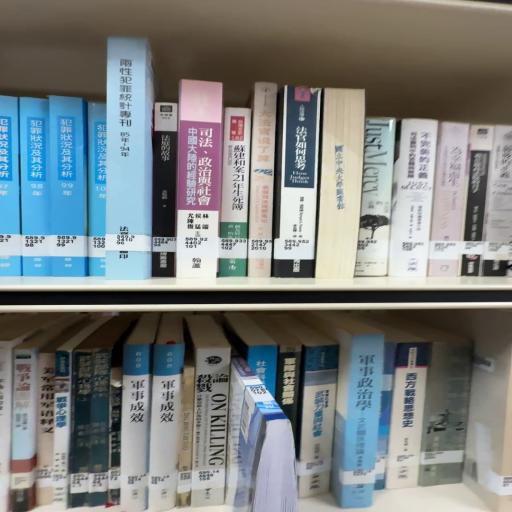backward: (317, 89, 366, 279)
book: (181, 83, 228, 287), (280, 89, 328, 284), (220, 106, 254, 283)
